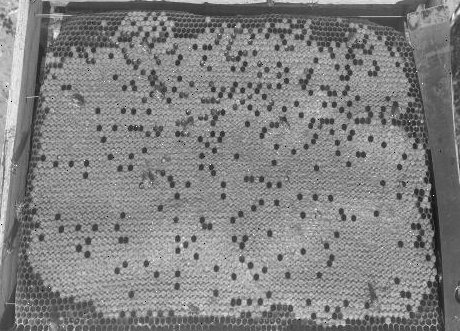cria: (23, 11, 438, 328)
